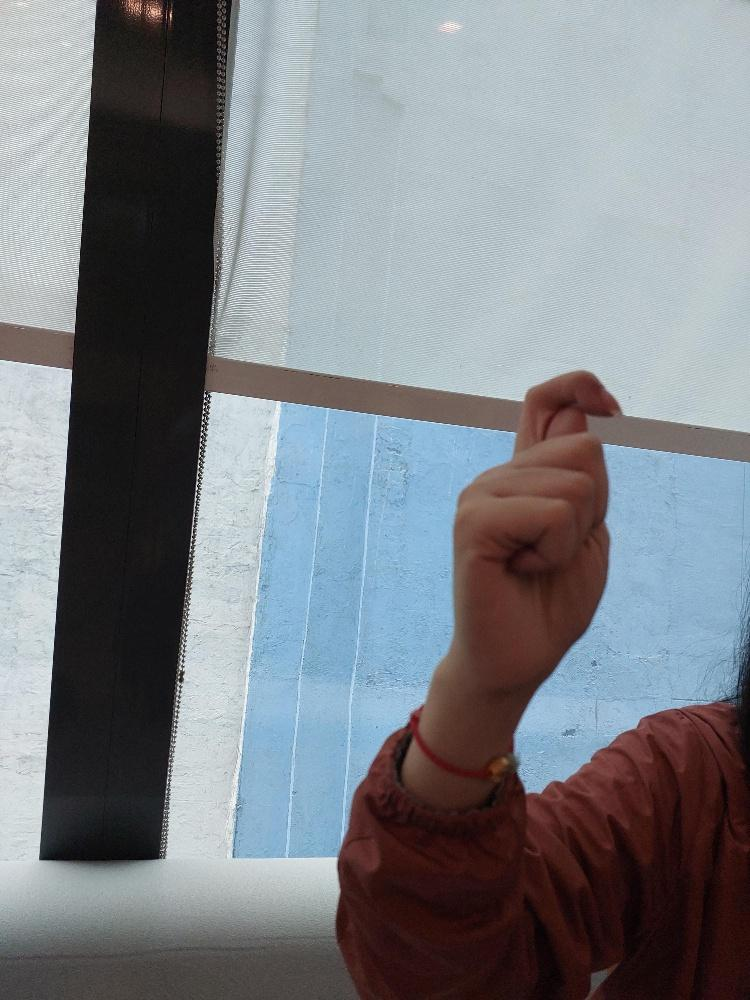t: (446, 366, 626, 701)
